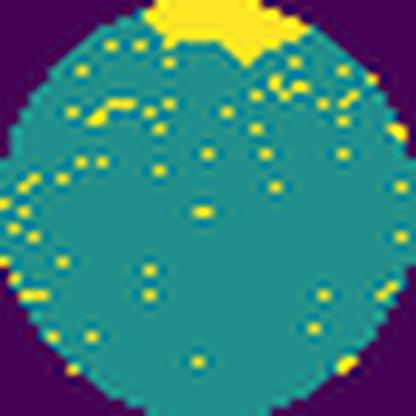Edge-Loc: (139, 0, 312, 67)
